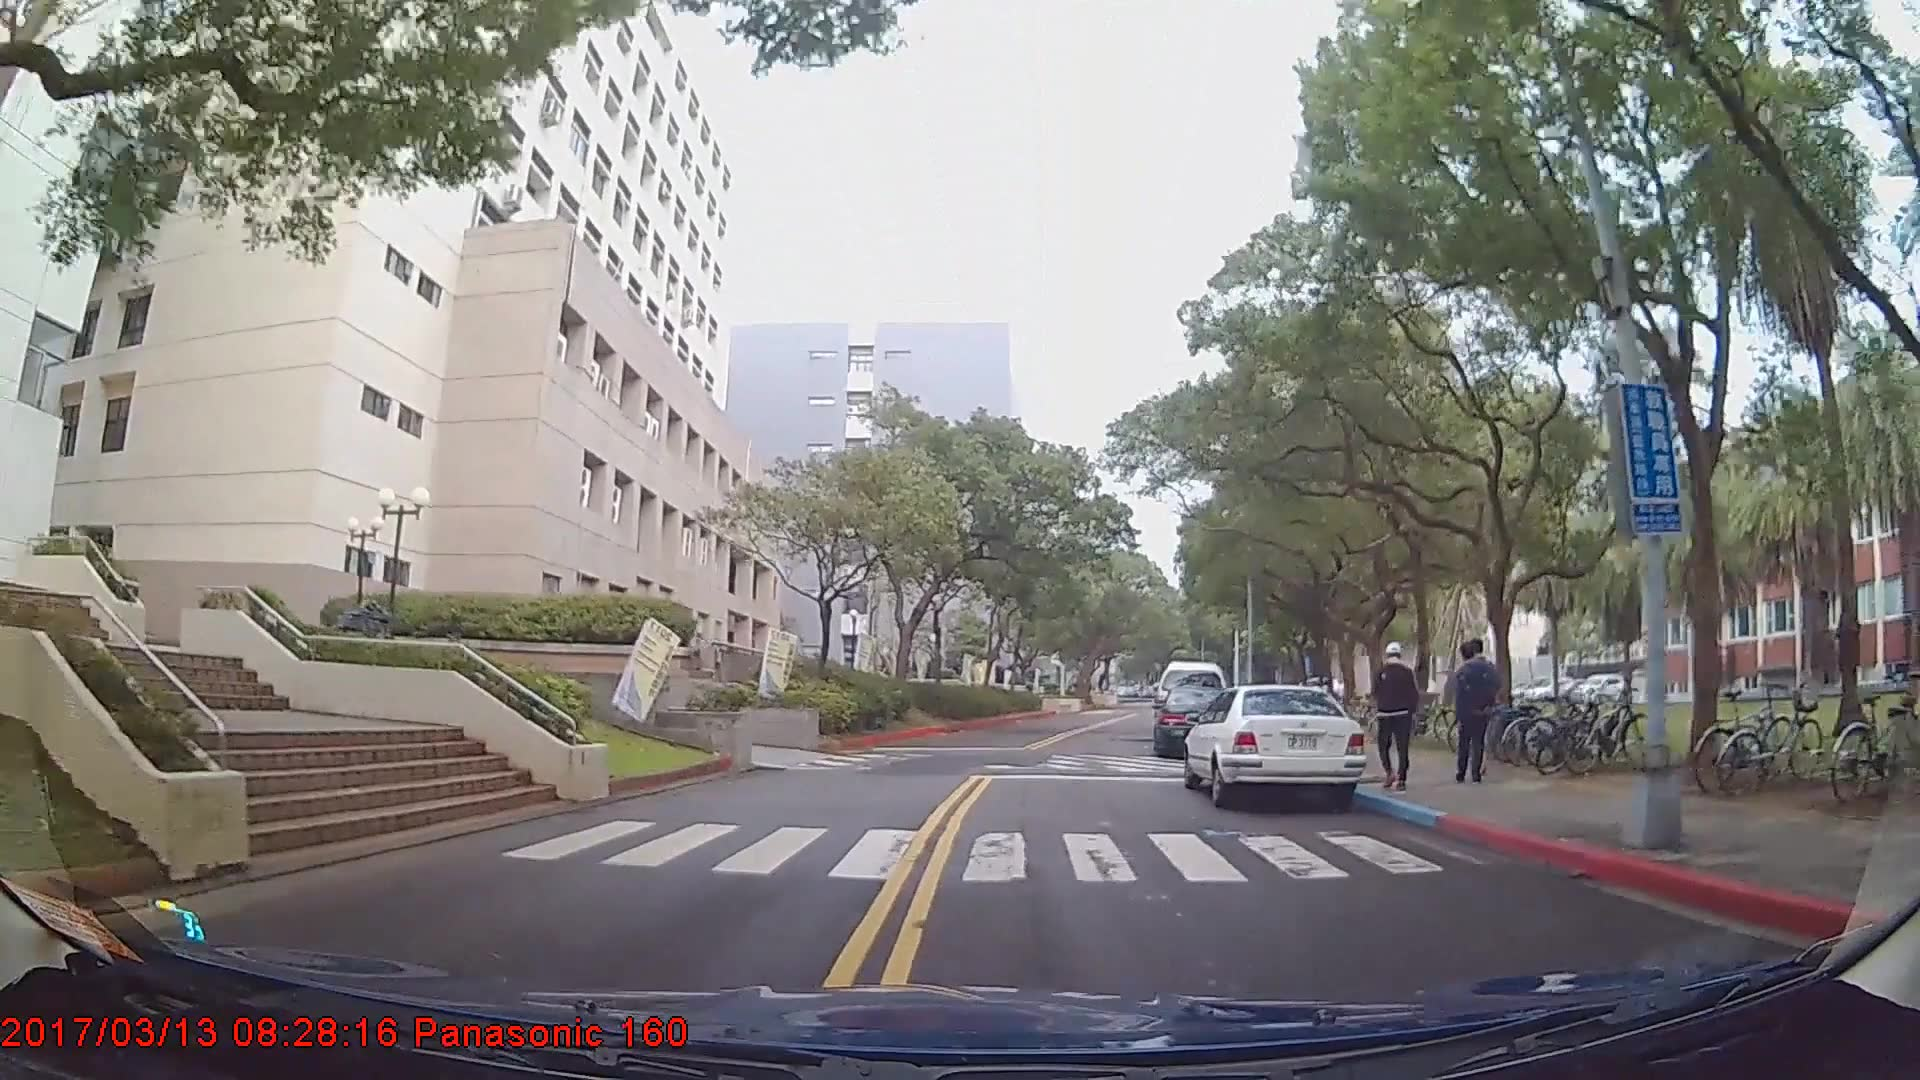pedestrian: (1450, 640, 1502, 791), (1370, 644, 1421, 795)
vehicle: (1183, 683, 1367, 809), (1152, 684, 1243, 758)
